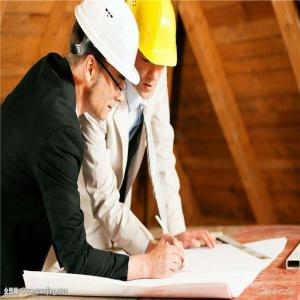white: (67, 3, 140, 128)
yellow: (125, 2, 180, 106)
